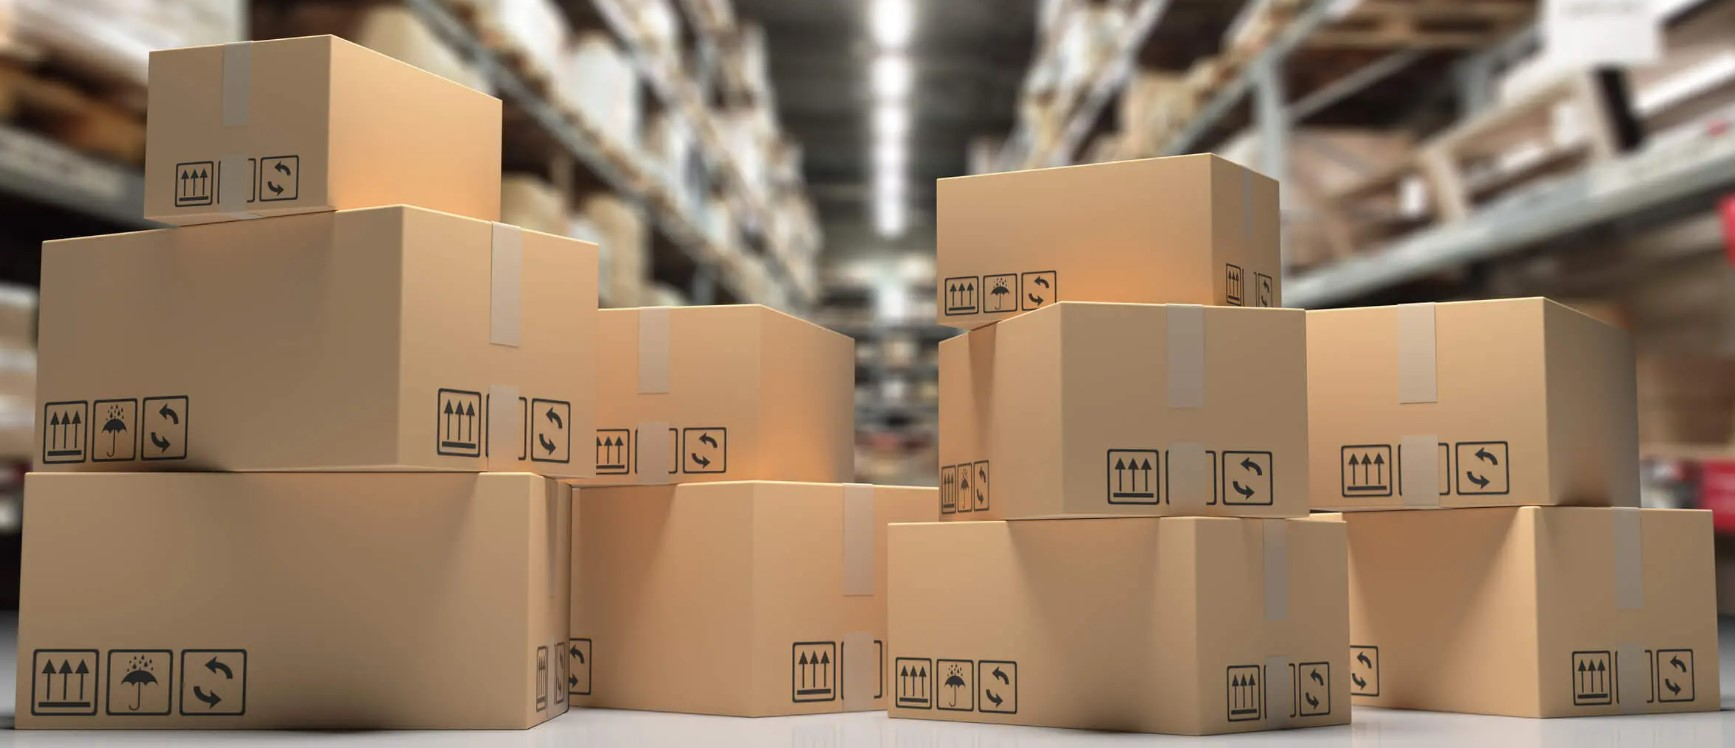stock: (35, 212, 602, 472), (25, 470, 562, 727), (890, 522, 1349, 734), (939, 309, 1311, 519), (1311, 304, 1641, 507), (143, 38, 502, 216)
